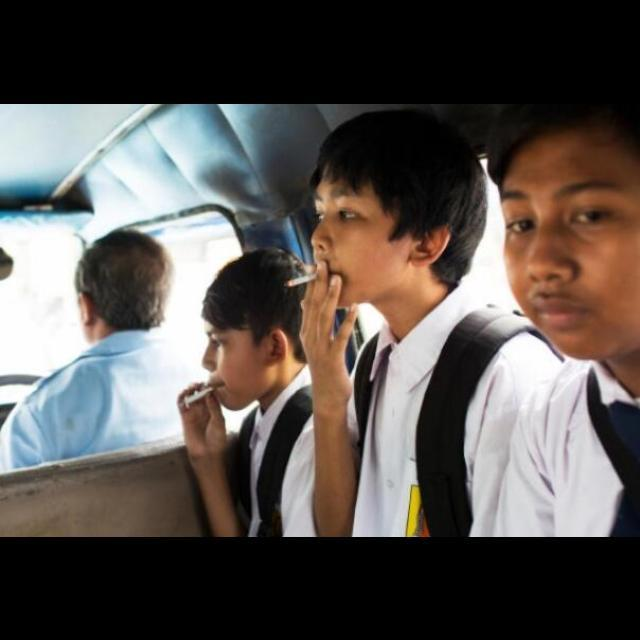rokok: (180, 384, 223, 406), (282, 272, 322, 290)
